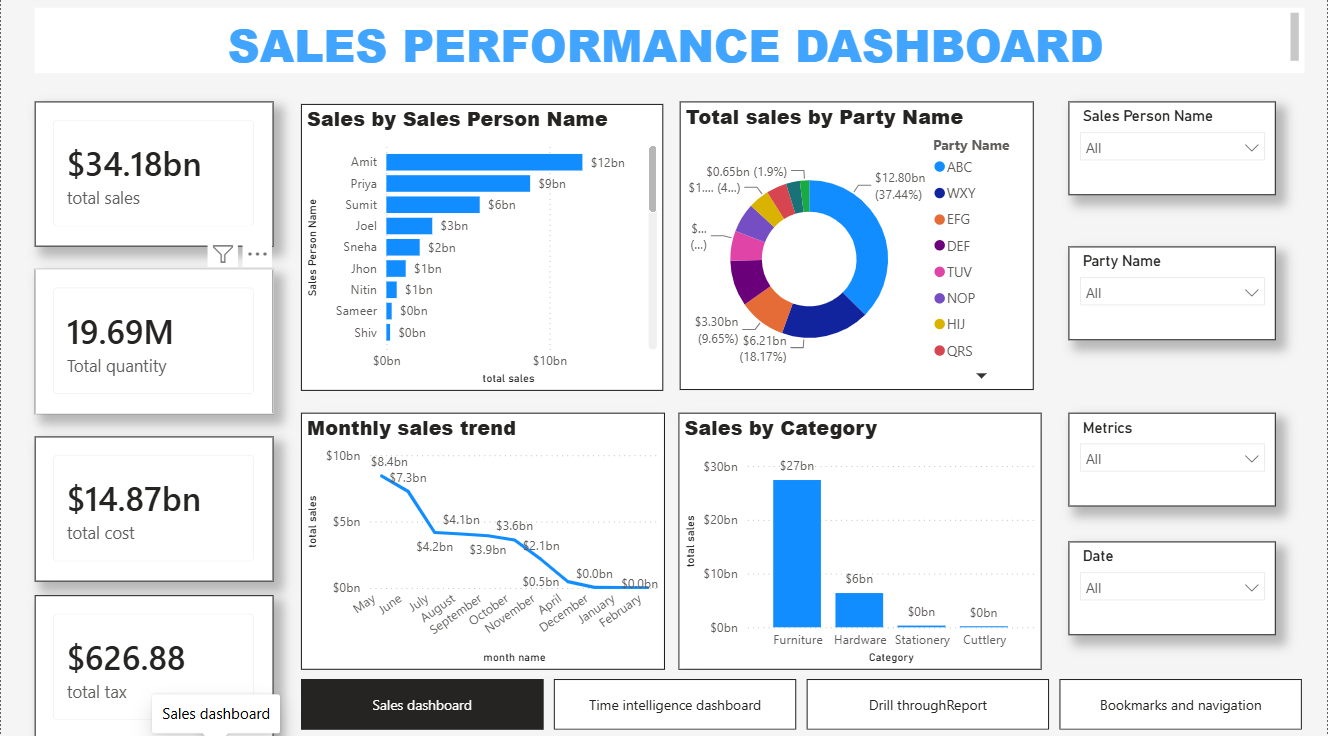

This screenshot's page, from the dashboard's own definition file:
{"tool":"powerbi","page":{"name":"Sales dashboard","canvas":[1280,720],"ordinal":0},"visuals":[{"type":"cardVisual","title":"Total","fields":{"Data":["CY.total sales"]},"box":[32.9,104.3,230.5,140],"z":0},{"type":"cardVisual","fields":{"Data":["CY.Total quantity"]},"box":[32.9,264.8,230.5,140],"z":1000},{"type":"cardVisual","fields":{"Data":["CY.total cost"]},"box":[32.9,426.8,230.5,140],"z":2000},{"type":"cardVisual","fields":{"Data":["CY.total tax"]},"box":[32.9,580.4,230.5,140],"z":3000},{"type":"clusteredColumnChart","title":"Sales by Category","fields":{"Category":["FACT SALES.Category"],"Y":["CY.total sales"]},"box":[654.2,404.7,350,248.3],"z":4000},{"type":"clusteredBarChart","title":" Sales by Sales Person Name","fields":{"Y":["CY.total sales"],"Category":["Dim sales person.Sales Person Name"]},"box":[289.5,105.7,349.9,277.2],"z":5000},{"type":"lineChart","title":"Monthly sales trend ","fields":{"Category":["calender.month name"],"Y":["CY.total sales"]},"box":[289.2,404.7,351.3,248.3],"z":6000},{"type":"donutChart","title":"Total sales by Party Name","fields":{"Category":["Dim party.Party Name"],"Y":["CY.total sales"]},"box":[654.5,104.3,341.7,278.6],"z":7000},{"type":"slicer","fields":{"Values":["calender.Date"]},"box":[1030.3,528.8,200,90],"z":8000},{"type":"slicer","fields":{"Values":["Dim party.Party Name"]},"box":[1030.3,243.3,200,90],"z":9000},{"type":"slicer","fields":{"Values":["Dim sales person.Sales Person Name"]},"box":[1030.3,104.3,200,90],"z":10000},{"type":"slicer","fields":{"Values":["Metrics.Metrics"]},"box":[1030.3,404.7,200,90],"z":11000},{"type":"textbox","box":[32.9,13.7,1225.4,63.1],"z":12000},{"type":"pageNavigator","box":[289.2,661.6,967,49.7],"z":13000}]}

Visuals, with their boxes in screenshot pixels (x1, y1, x2, y2), scaled from the page's 1280x720 canvas onto the 1328x736 screenshot:
"Total" cardVisual: locate(34, 107, 273, 250)
cardVisual - CY.Total quantity: locate(34, 271, 273, 414)
cardVisual - CY.total cost: locate(34, 436, 273, 579)
cardVisual - CY.total tax: locate(34, 593, 273, 735)
"Sales by Category" clusteredColumnChart: locate(679, 414, 1042, 668)
" Sales by Sales Person Name" clusteredBarChart: locate(300, 108, 663, 391)
"Monthly sales trend " lineChart: locate(300, 414, 665, 668)
"Total sales by Party Name" donutChart: locate(679, 107, 1034, 391)
slicer - calender.Date: locate(1069, 541, 1276, 633)
slicer - Dim party.Party Name: locate(1069, 249, 1276, 341)
slicer - Dim sales person.Sales Person Name: locate(1069, 107, 1276, 199)
slicer - Metrics.Metrics: locate(1069, 414, 1276, 506)
textbox: locate(34, 14, 1305, 79)
pageNavigator: locate(300, 676, 1303, 727)
